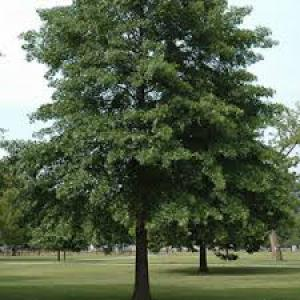Tree: (17, 0, 291, 299)
